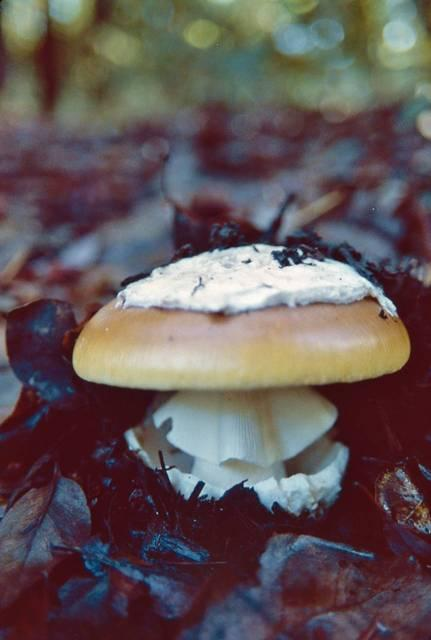edible_mushroom: (70, 238, 411, 517)
